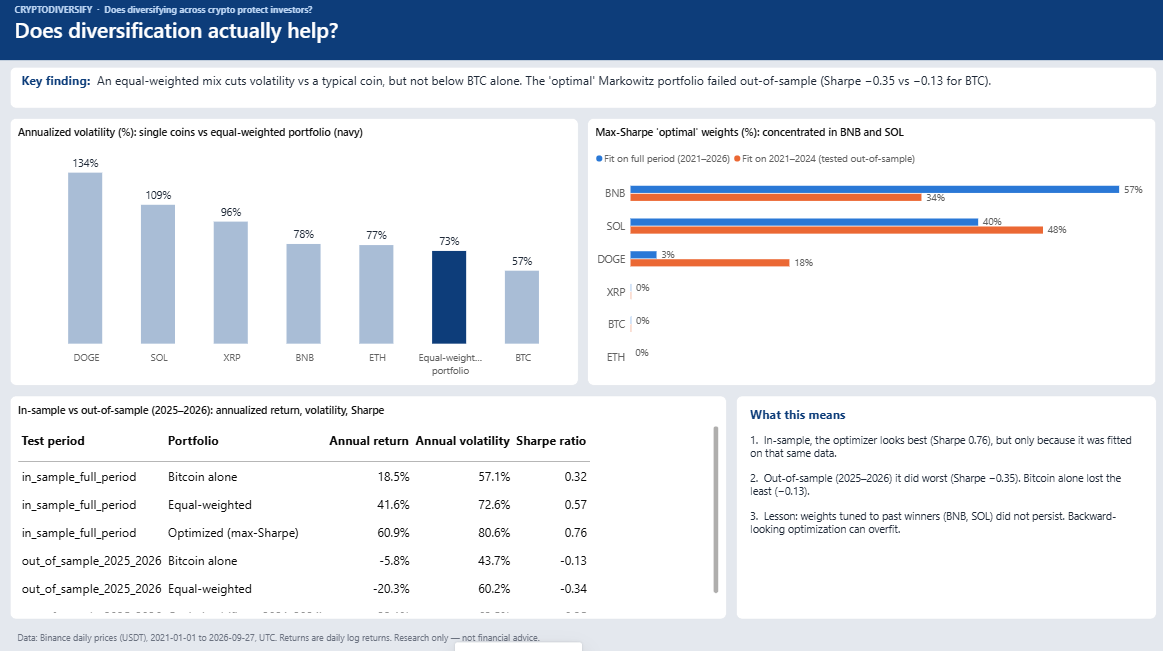

The page's visual inventory and layout, read from the dashboard file:
{"tool":"powerbi","page":{"name":"Portfolio Results","canvas":[1920,1080],"ordinal":2},"visuals":[{"type":"clusteredColumnChart","title":"Annualized volatility (%): single coins vs equal-weighted portfolio (navy)","fields":{"Category":["volatility_comparison.asset"],"Y":["Sum(volatility_comparison.annualized_volatility)"]},"box":[16,200,936,440],"z":0},{"type":"tableEx","title":"In-sample vs out-of-sample (2025–2026): annualized return, volatility, Sharpe","fields":{"Values":["portfolio_comparison.analysis","portfolio_comparison.portfolio","Sum(portfolio_comparison.return)","Sum(portfolio_comparison.volatility)","Sum(portfolio_comparison.sharpe)"]},"box":[16,656,1180,368],"z":1000},{"type":"clusteredBarChart","title":"Max-Sharpe ''optimal'' weights (%): concentrated in BNB and SOL","fields":{"Category":["optimal_weights.coin"],"Y":["Sum(optimal_weights.weight_full_period)","Sum(optimal_weights.weight_train_2021_2024)"]},"box":[968,200,936,440],"z":2000},{"type":"textbox","box":[0,0,1920,104],"z":5000},{"type":"textbox","box":[16,116,1888,68],"z":5001},{"type":"textbox","box":[16,1034,1888,40],"z":5002},{"type":"textbox","box":[1212,656,692,368],"z":5003}]}

Visuals, with their boxes in screenshot pixels (x1, y1, x2, y2), scaled from the page's 1920x1080 canvas onto the 1163x651 screenshot:
"Annualized volatility (%): single coins vs equal-weighted portfolio (navy)" clusteredColumnChart: l=10, t=121, r=577, b=386
"In-sample vs out-of-sample (2025–2026): annualized return, volatility, Sharpe" tableEx: l=10, t=395, r=724, b=617
"Max-Sharpe ''optimal'' weights (%): concentrated in BNB and SOL" clusteredBarChart: l=586, t=121, r=1153, b=386
textbox: l=0, t=0, r=1162, b=63
textbox: l=10, t=70, r=1153, b=111
textbox: l=10, t=623, r=1153, b=647
textbox: l=734, t=395, r=1153, b=617
